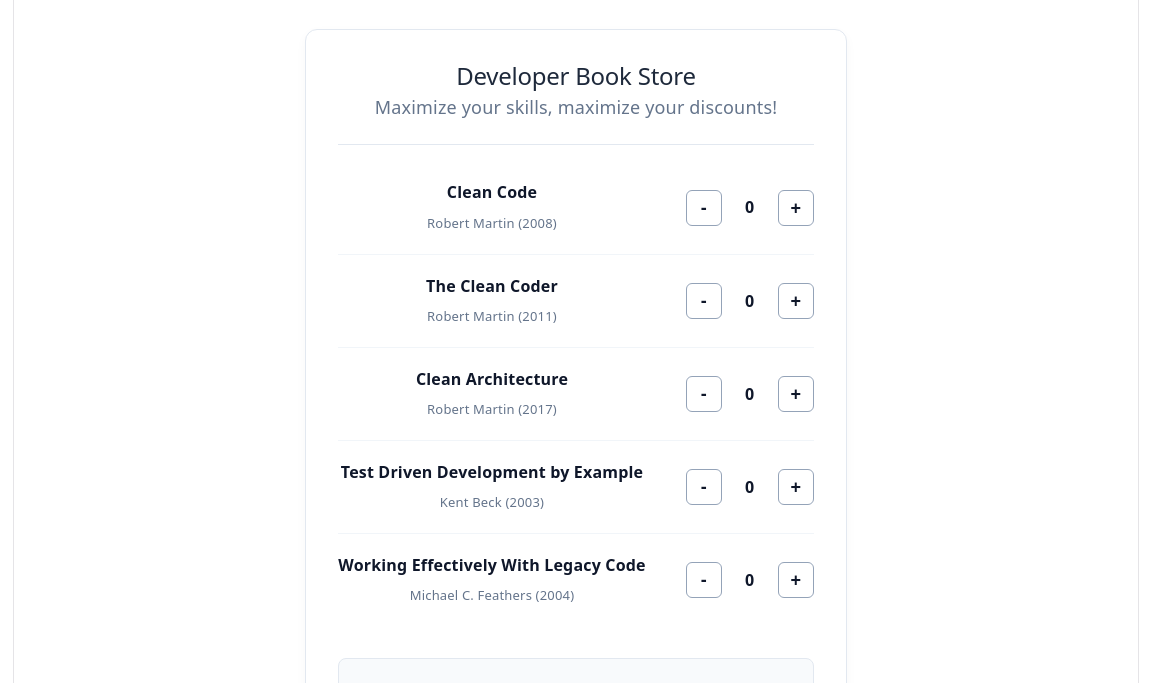
it: BookBasket UI - Quantity Manipulations › should scale prices proportionally when adding singular books
Click the button named "Increase".
click(796, 208)  # box [778, 190, 814, 226]
(page scrolled)
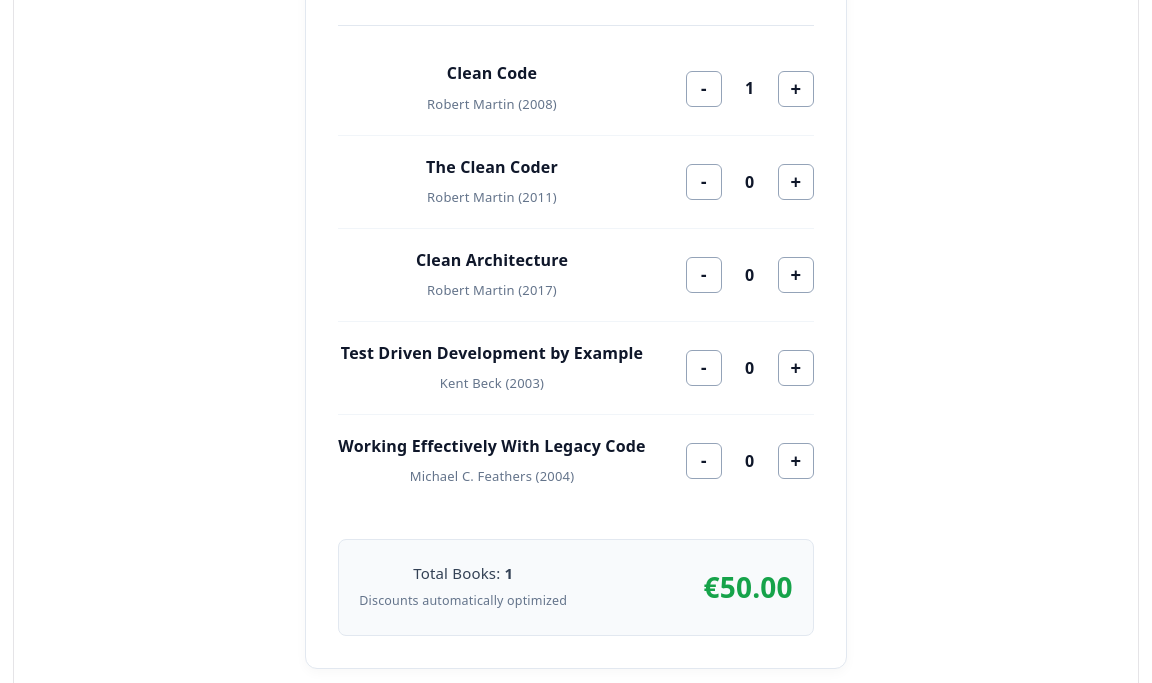
Expected: the text "€50.00" is shown, [704, 574, 793, 600]
